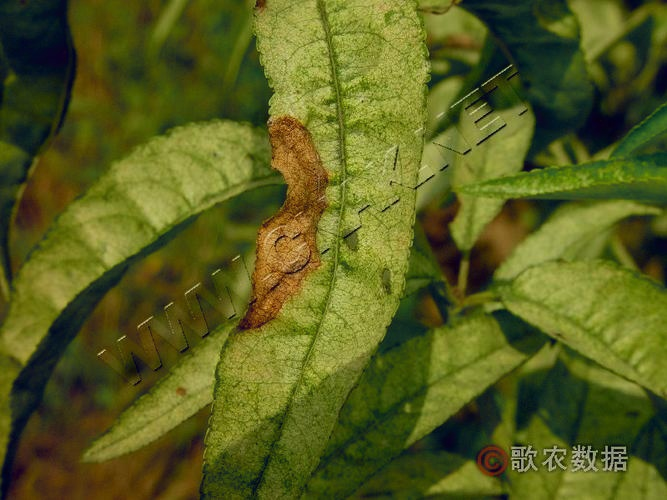Anthracnose: (256, 112, 328, 346)
